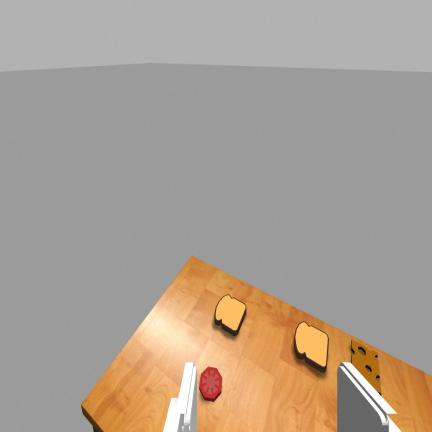cheese: (352, 340, 381, 394)
sliced_bread: (294, 322, 328, 371), (215, 295, 246, 335)
sliced_tomato: (200, 367, 221, 401)
